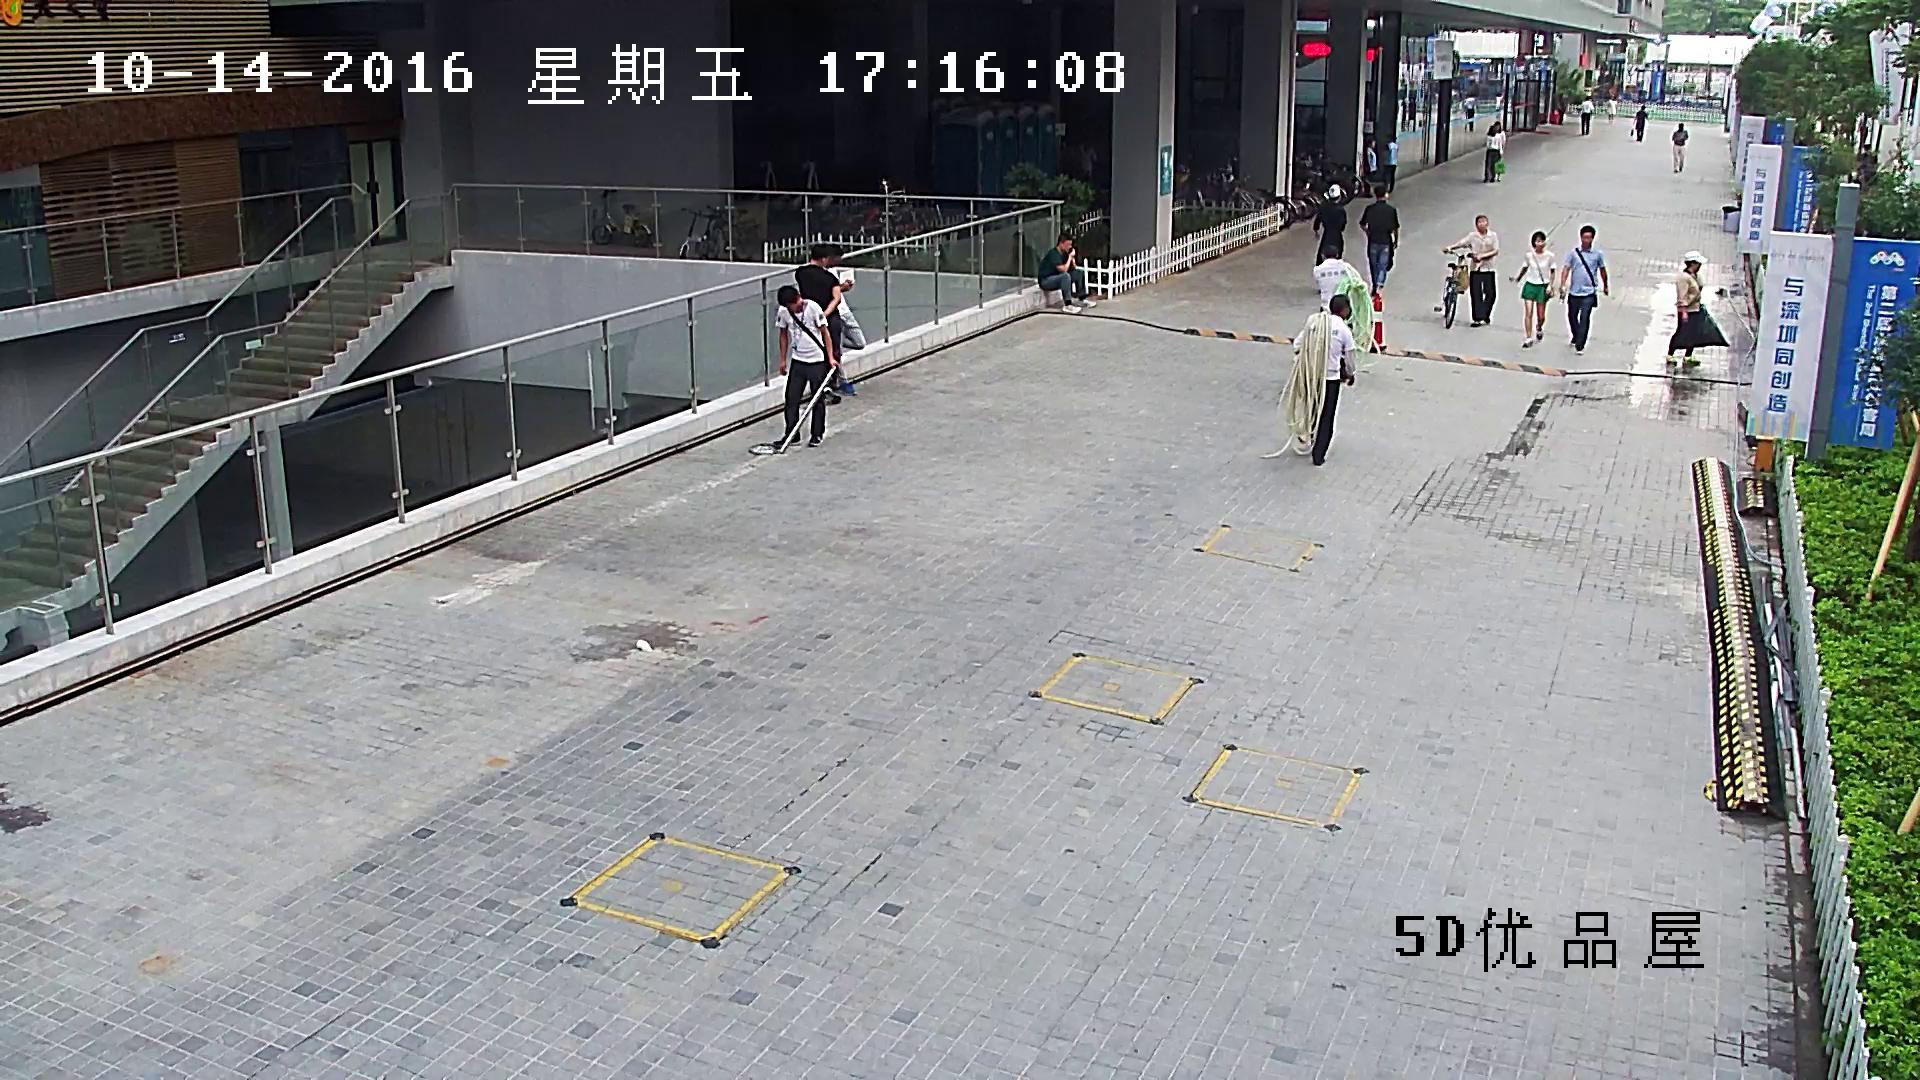person: (1259, 293, 1356, 465), (748, 284, 839, 455), (1293, 293, 1356, 465), (774, 286, 840, 446), (1312, 240, 1381, 382), (1666, 249, 1730, 367), (1433, 214, 1498, 329), (794, 243, 841, 398), (822, 243, 866, 394), (1559, 225, 1607, 353), (1446, 214, 1499, 327), (1312, 241, 1352, 382), (1513, 230, 1557, 347), (1666, 250, 1707, 368), (1038, 233, 1097, 314), (1359, 184, 1399, 298), (1312, 184, 1347, 293), (990, 229, 1039, 295), (1481, 124, 1504, 183), (1490, 121, 1505, 181), (1382, 134, 1397, 192), (1576, 95, 1594, 136), (1672, 122, 1687, 172), (1630, 105, 1648, 141), (1860, 143, 1873, 184), (1632, 105, 1647, 141), (1367, 136, 1376, 196), (1464, 94, 1475, 133), (1607, 98, 1616, 121), (1494, 93, 1502, 111)
